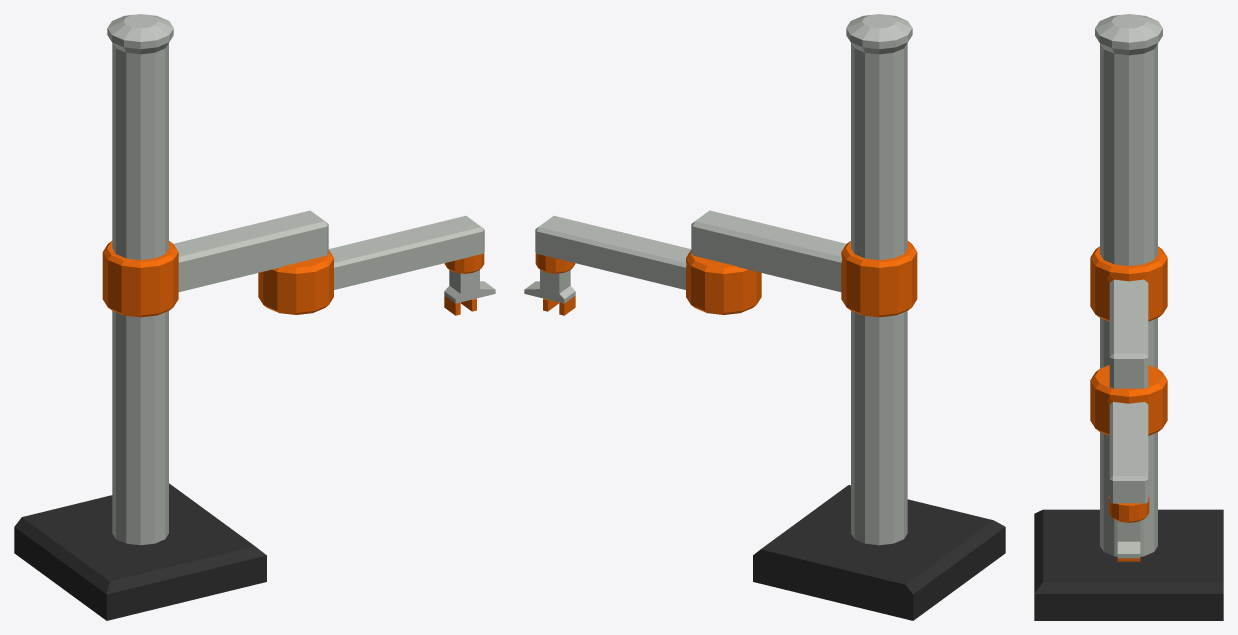
File: roboarm.glb
3 renders of one model, left to right at view 1: azimuth 30°, elevation 25°; view 2: azimuth 150°, elevation 25°; view 3: azimuth 270°, elevation 25°, orthographic. The views are drawn at different scales.
Visible parts, largest first — view 1: Mast, Base, Lift, Elbow, Wrist; view 2: Mast, Base, Lift, Elbow, Wrist; view 3: Base, Mast, Lift, Elbow, Wrist.
Part boxes in pixels (bbox=[...]): Mast: bbox=[107, 14, 173, 545]; Base: bbox=[14, 483, 266, 620]; Lift: bbox=[102, 210, 328, 317]; Elbow: bbox=[258, 215, 484, 314]; Wrist: bbox=[444, 252, 495, 315]; Mast: bbox=[846, 14, 912, 545]; Base: bbox=[753, 485, 1005, 620]; Lift: bbox=[691, 210, 917, 317]; Elbow: bbox=[535, 215, 761, 314]; Wrist: bbox=[524, 252, 575, 315]; Base: bbox=[1034, 509, 1223, 620]; Mast: bbox=[1095, 14, 1162, 556]; Lift: bbox=[1090, 246, 1167, 388]; Elbow: bbox=[1090, 365, 1167, 503]; Wrist: bbox=[1108, 496, 1149, 558].
Size of the model in its own units: 2.62 by 3.18 by 0.9761.
